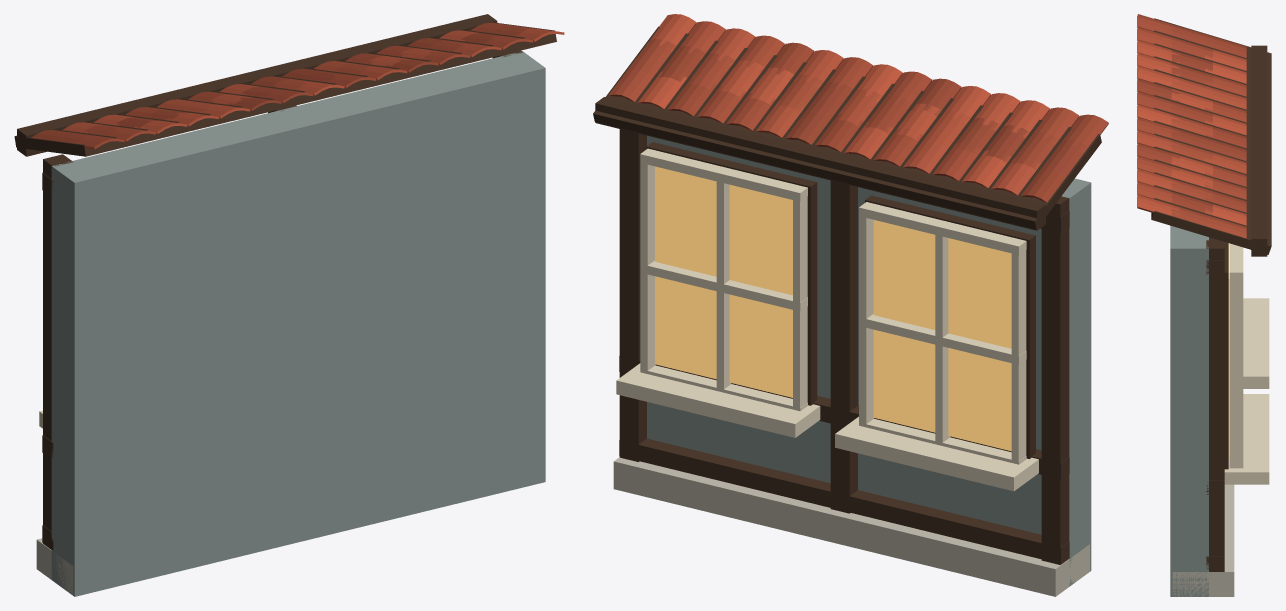
File: SM_Wall_Window_Roof_L2.glb
The picture shows the model from 3 angles, left to right: view 1: azimuth 30°, elevation 25°; view 2: azimuth 150°, elevation 25°; view 3: azimuth 270°, elevation 25°; orthographic projection. The views are drawn at different scales.
Parts seen in each view (by area): view 1: SM_Wall_Window_Roof; view 2: SM_Wall_Window_Roof; view 3: SM_Wall_Window_Roof.
Part boxes in pixels (x1,y1,x2,y2): SM_Wall_Window_Roof: [14, 14, 564, 596]; SM_Wall_Window_Roof: [593, 14, 1108, 596]; SM_Wall_Window_Roof: [1137, 14, 1271, 596].
Bounding box in the file's own units: 4 × 3.8 × 1.17.
